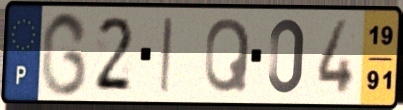0: (267, 16, 307, 97)
2: (90, 15, 139, 95)
4: (313, 17, 357, 97)
G: (38, 9, 90, 99)
I: (157, 15, 174, 96)
Q: (202, 16, 253, 96)
